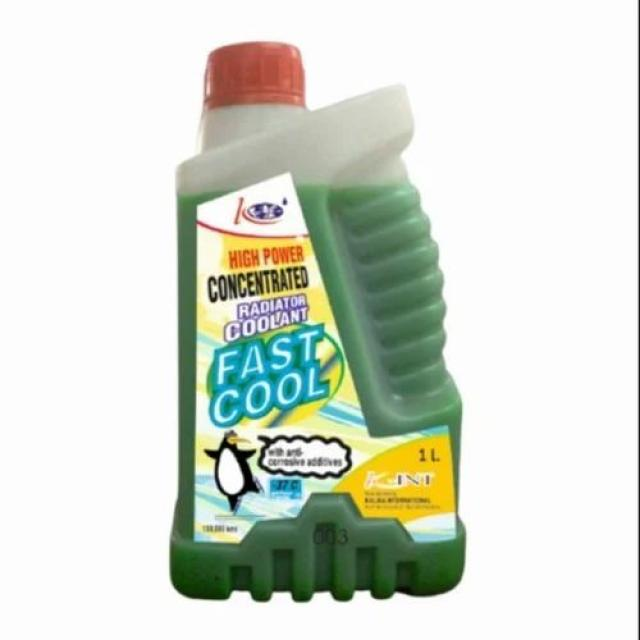coolant: (167, 38, 472, 604)
